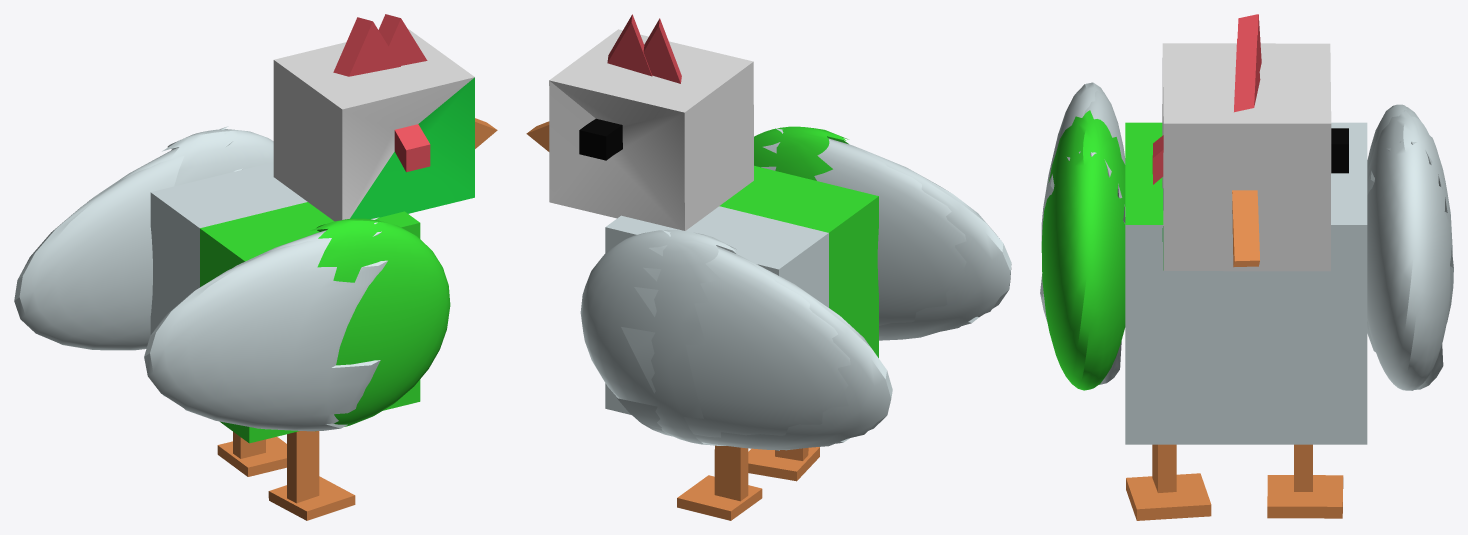
Rendered from MeleeChicken.fbx.
3 renders of one model, left to right at view 1: azimuth 30°, elevation 25°; view 2: azimuth 150°, elevation 25°; view 3: azimuth 270°, elevation 25°, orthographic. The views are drawn at different scales.
Visible parts, largest first — view 1: Right Wing, Head, Left Wing, Body, Right Leg, Left Leg; view 2: Left Wing, Head, Right Wing, Body, Left Leg, Right Leg; view 3: Body, Head, Right Wing, Left Wing, Right Leg, Left Leg.
Boxes of the visible parts, left/top/right/bottom form: Right Wing: left=144, top=217, right=450, bottom=431; Head: left=273, top=14, right=497, bottom=221; Left Wing: left=14, top=126, right=273, bottom=350; Body: left=150, top=162, right=420, bottom=443; Right Leg: left=268, top=431, right=355, bottom=520; Left Leg: left=217, top=432, right=286, bottom=476; Left Wing: left=580, top=229, right=892, bottom=450; Head: left=526, top=14, right=753, bottom=230; Right Wing: left=754, top=126, right=1011, bottom=340; Body: left=605, top=165, right=878, bottom=450; Left Leg: left=677, top=445, right=762, bottom=520; Right Leg: left=748, top=447, right=819, bottom=481; Body: left=1125, top=122, right=1367, bottom=444; Head: left=1152, top=14, right=1348, bottom=271; Right Wing: left=1040, top=82, right=1125, bottom=390; Left Wing: left=1367, top=104, right=1453, bottom=390; Right Leg: left=1126, top=444, right=1211, bottom=520; Left Leg: left=1267, top=444, right=1343, bottom=518.
Bounding box in the file's own units: 4.3 × 4.33 × 3.02.
